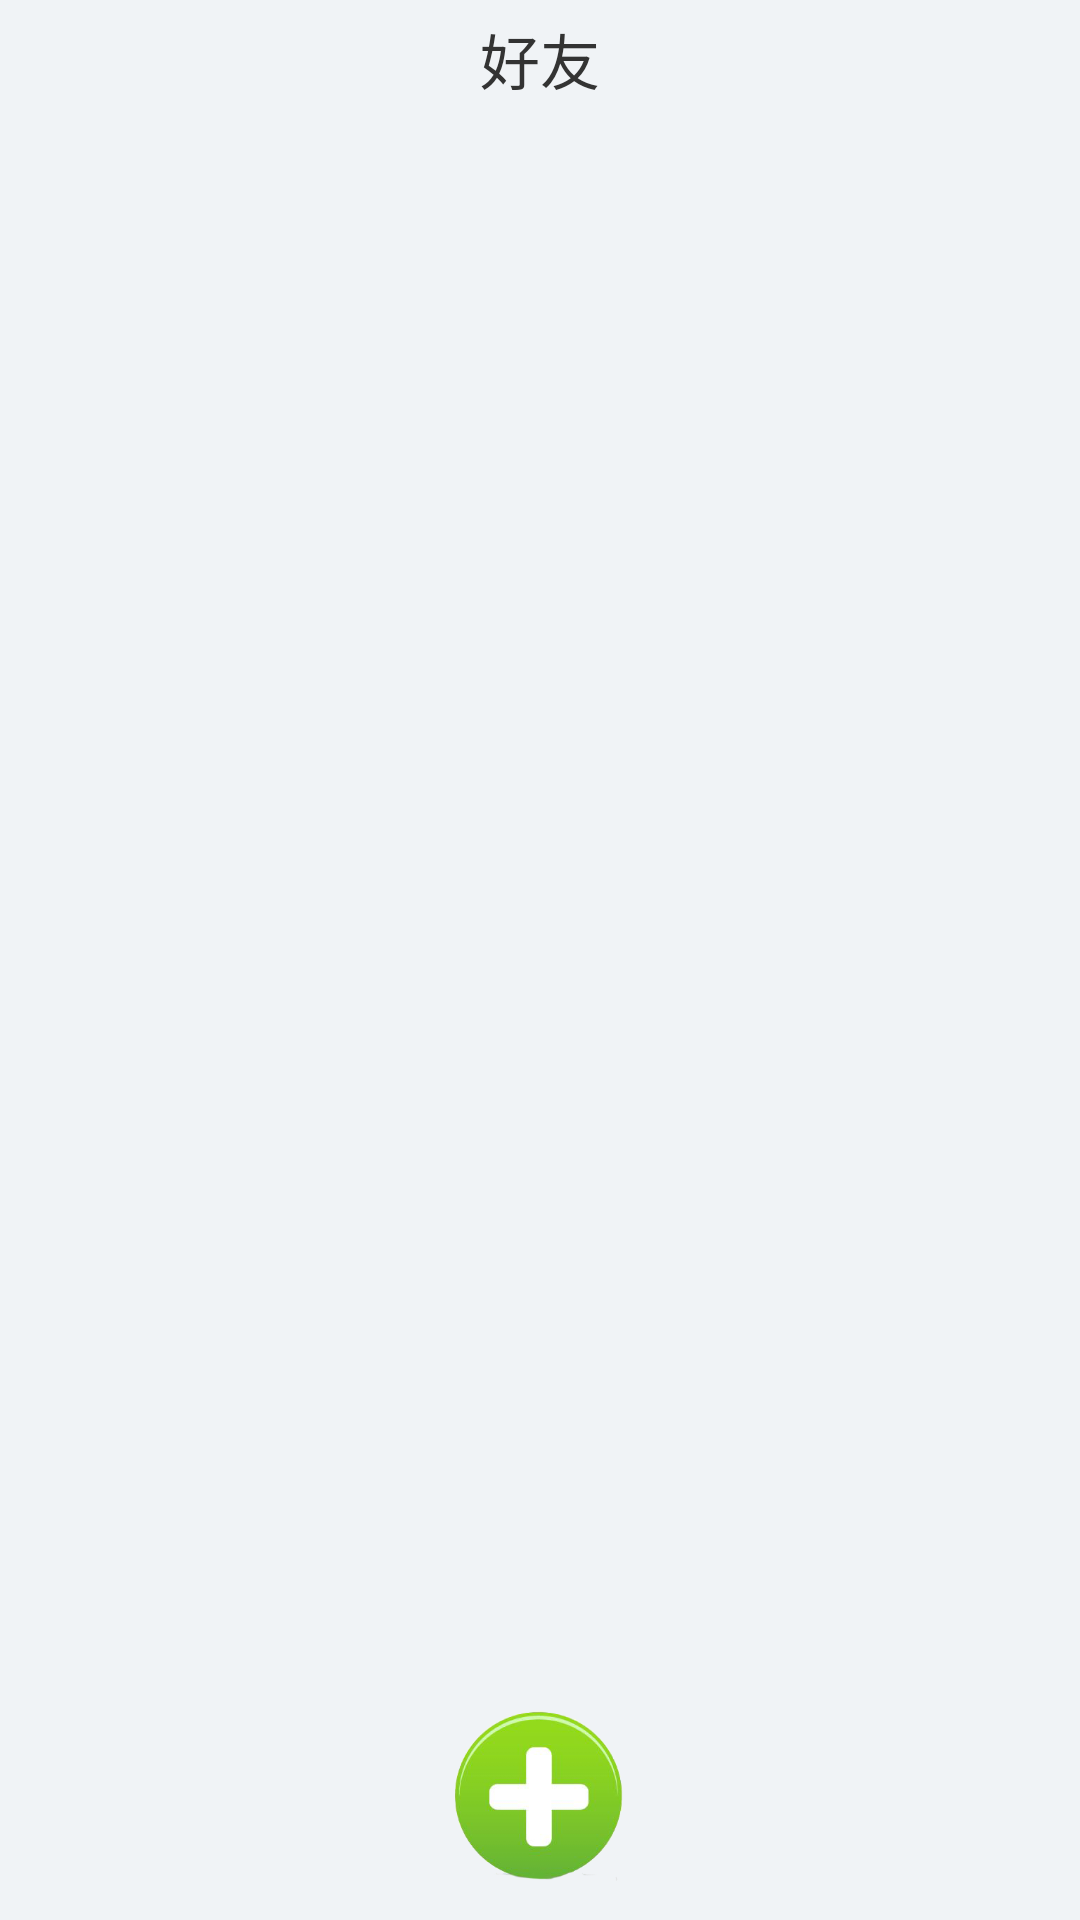

Locate icon controls on the screen. Image size 1080×1920, boxes as (x1, y1, x2, y2).
plus: (455, 1711, 622, 1879)
